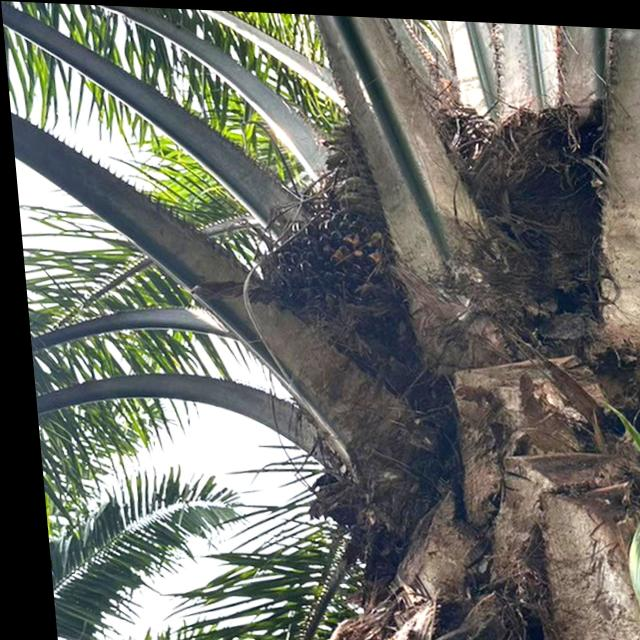almost: (236, 196, 400, 324)
